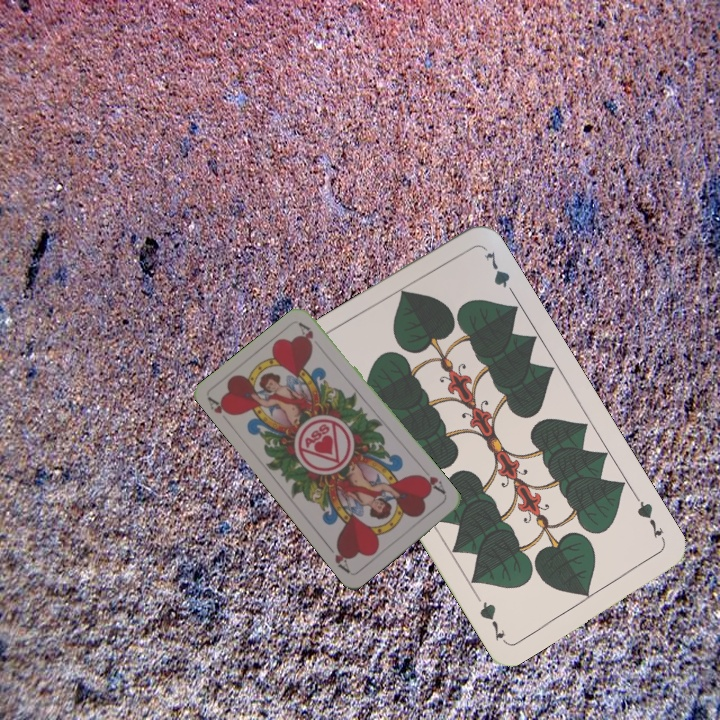G7: (631, 492, 666, 541)
HA: (204, 393, 236, 428), (414, 470, 448, 497)
